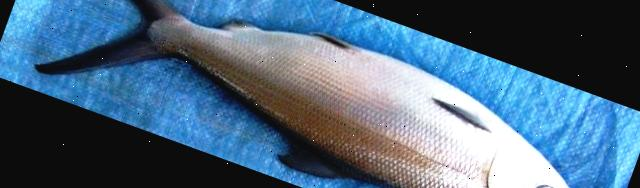Healthy Fish: (36, 0, 569, 188)
